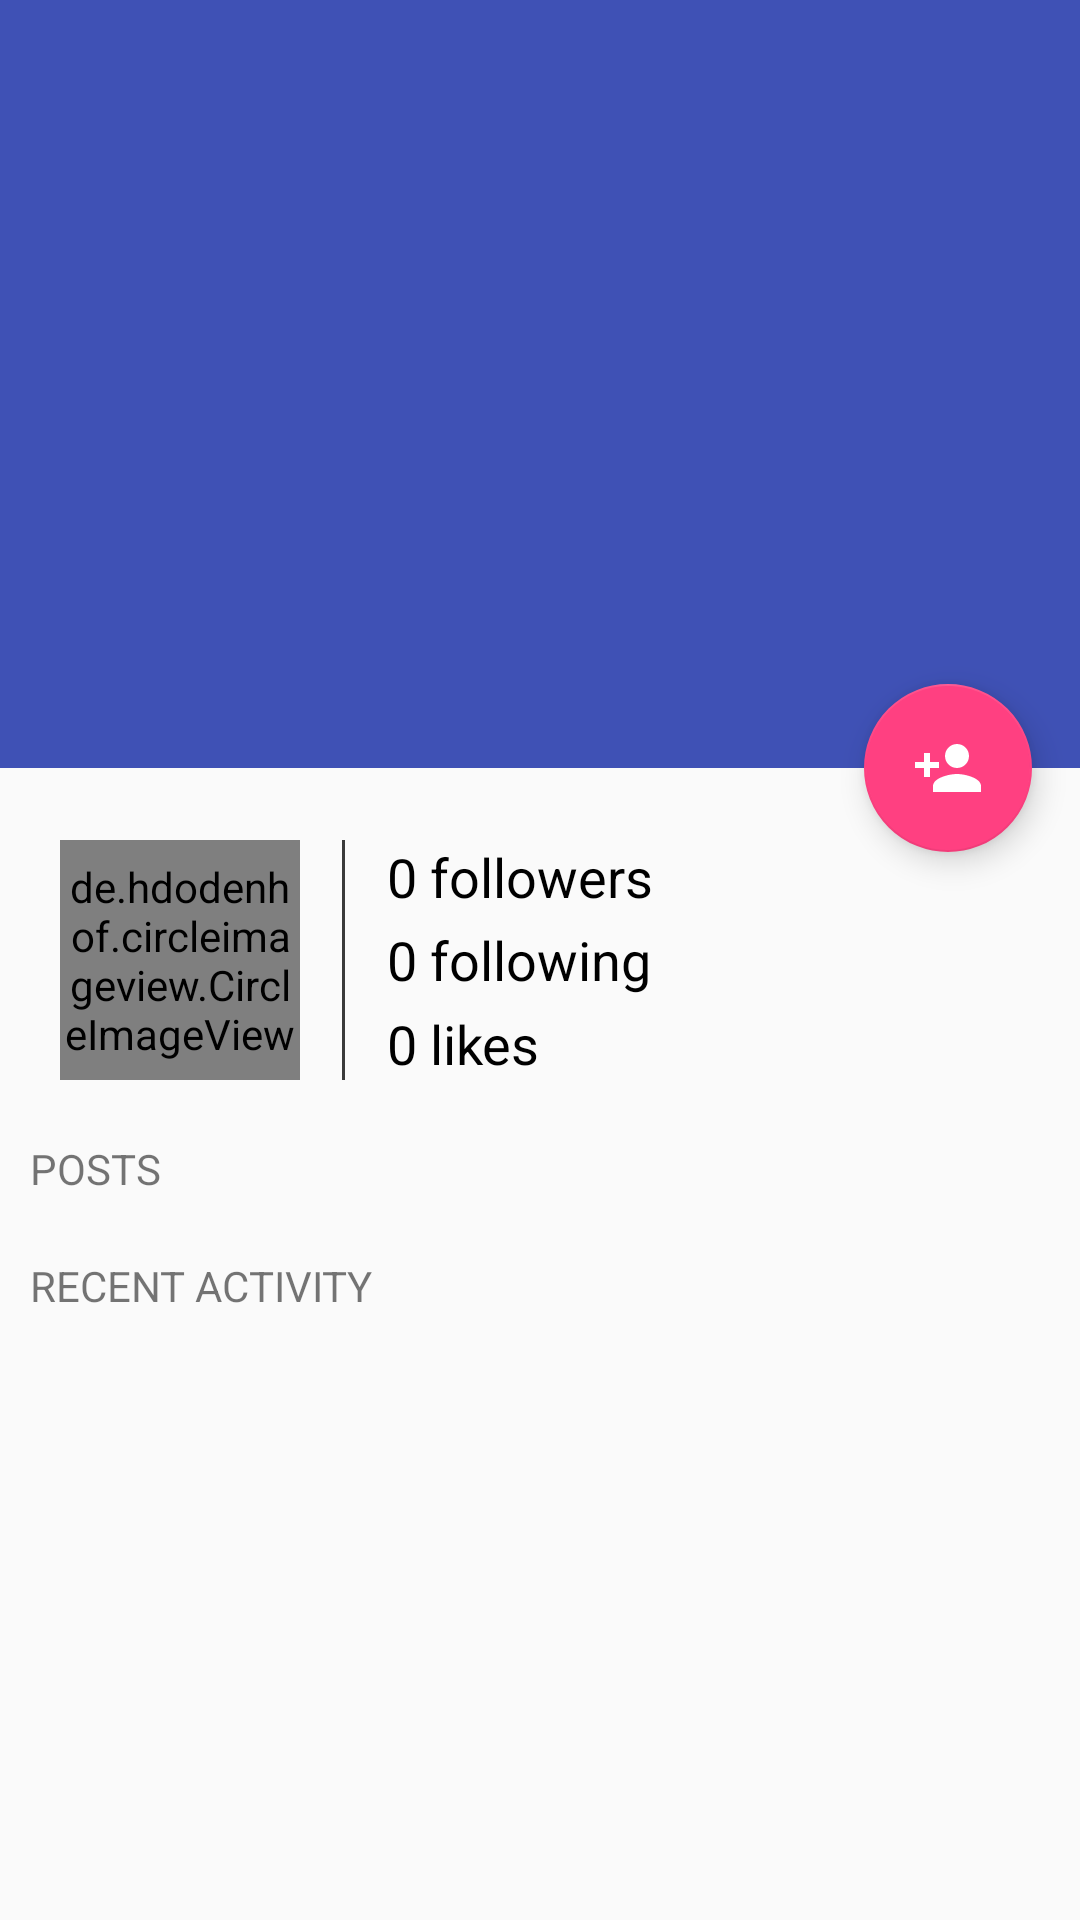

Named icons in this screenshot (1080x1920) and their centers, (x=x, y=y):
person add: (x=948, y=768)
